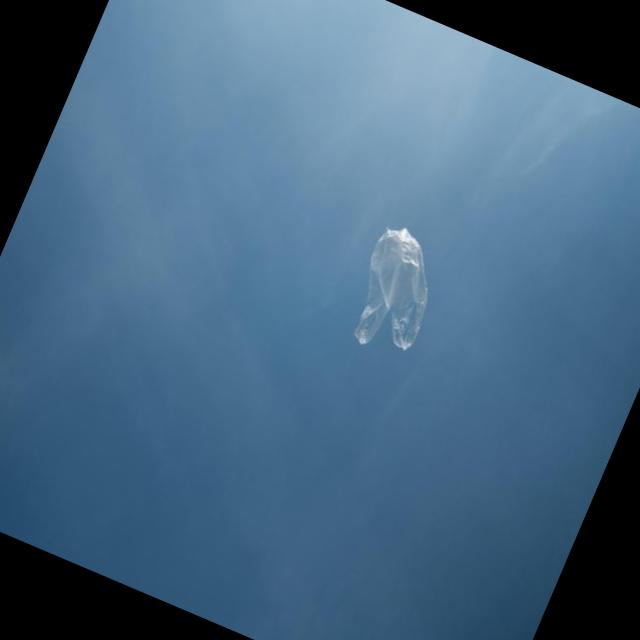KantongPlastik: (334, 219, 456, 366)
